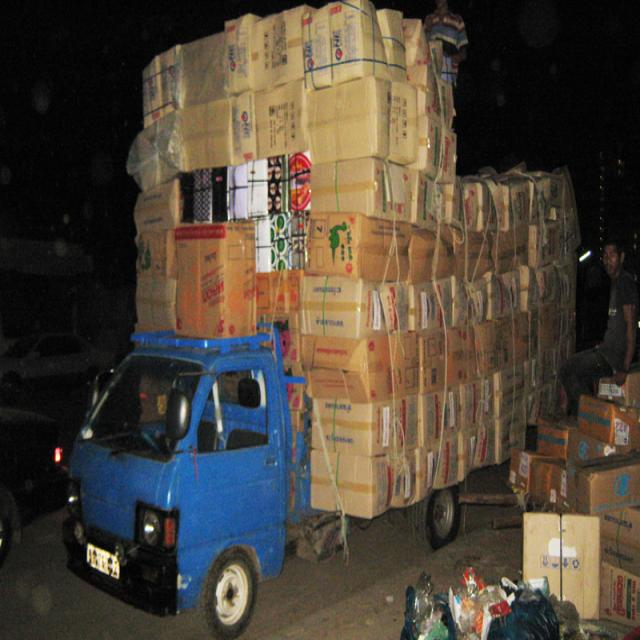overloaded_truck: (54, 34, 597, 640)
